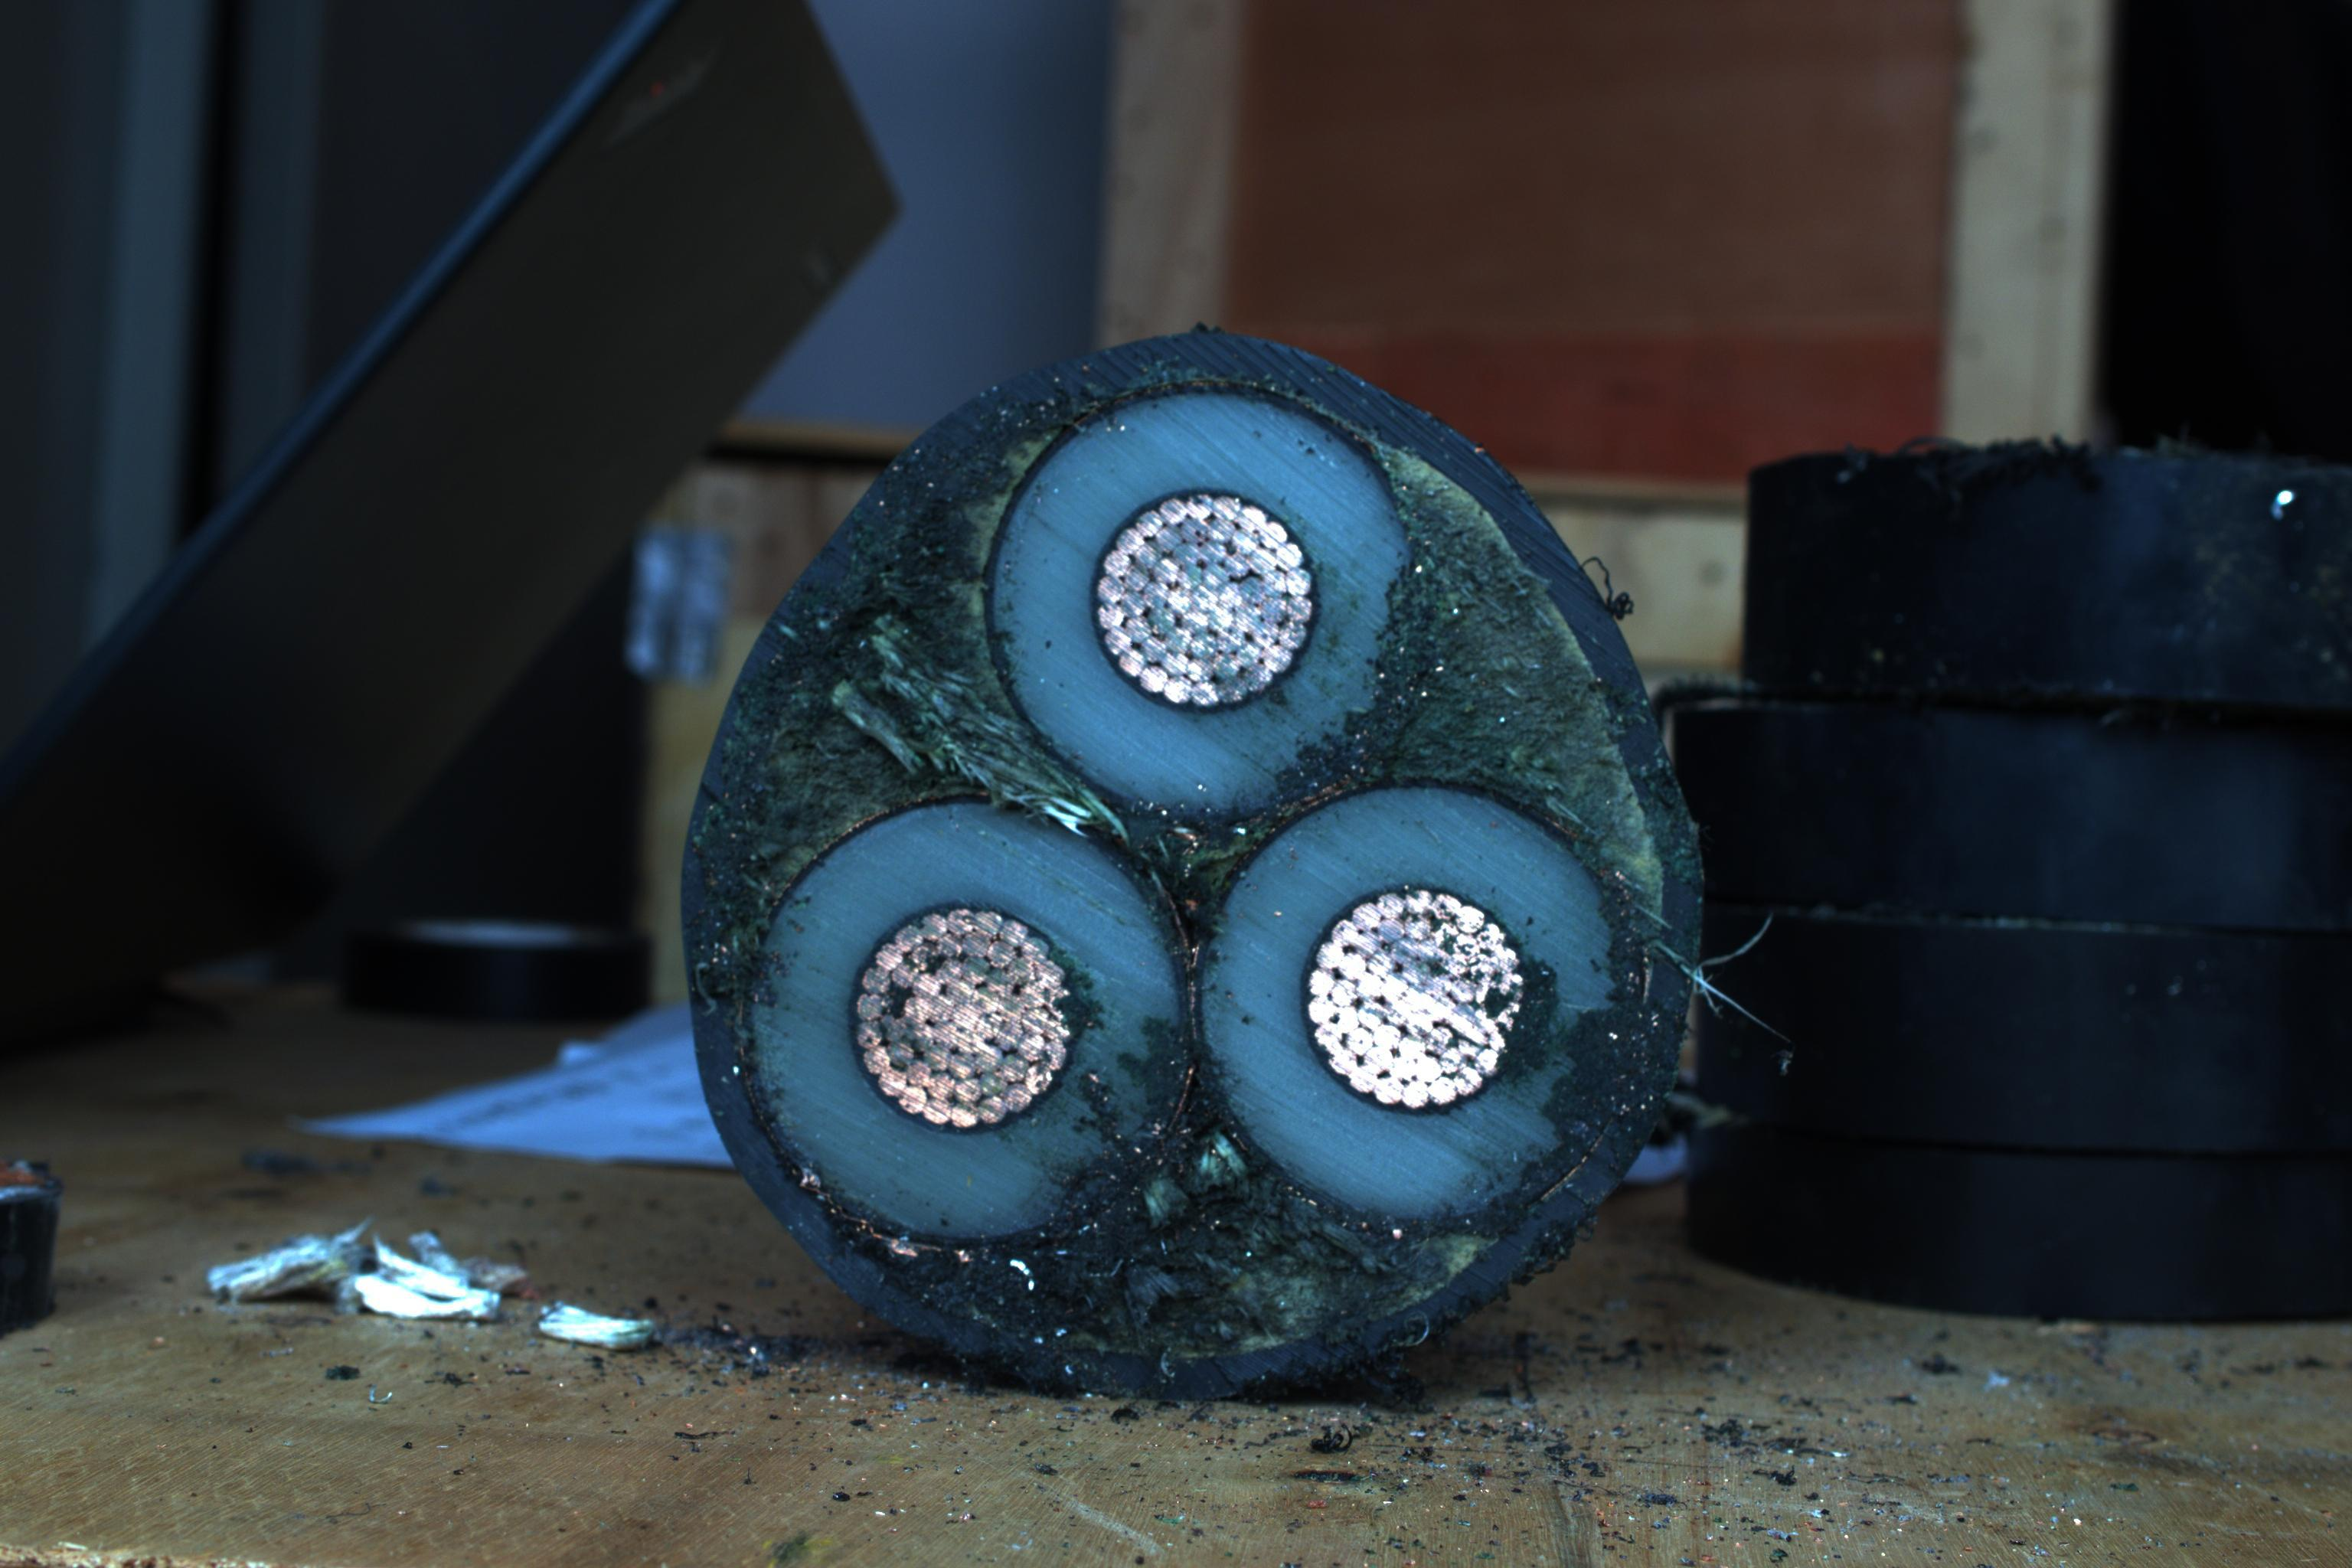ZA_YJV_26_35kV_3x400: (672, 332, 1731, 1416)
